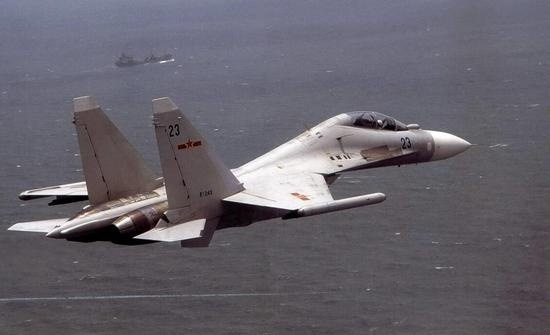airplane: (4, 95, 479, 254)
